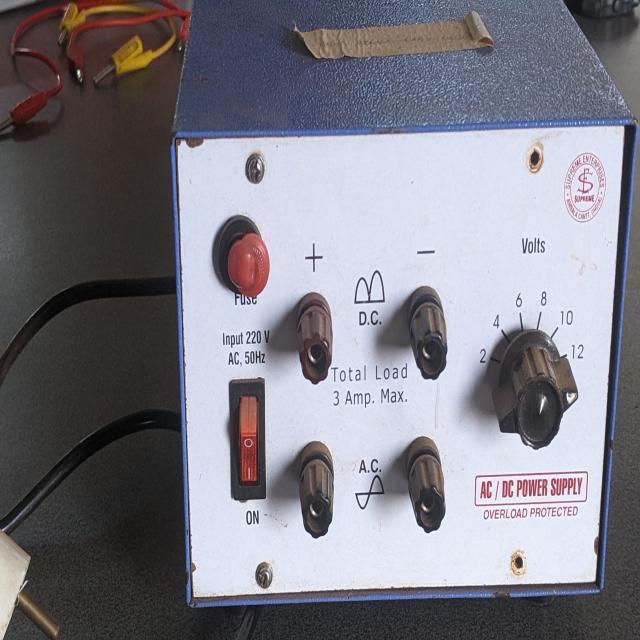Analog DC Power Supply: (163, 74, 640, 614)
